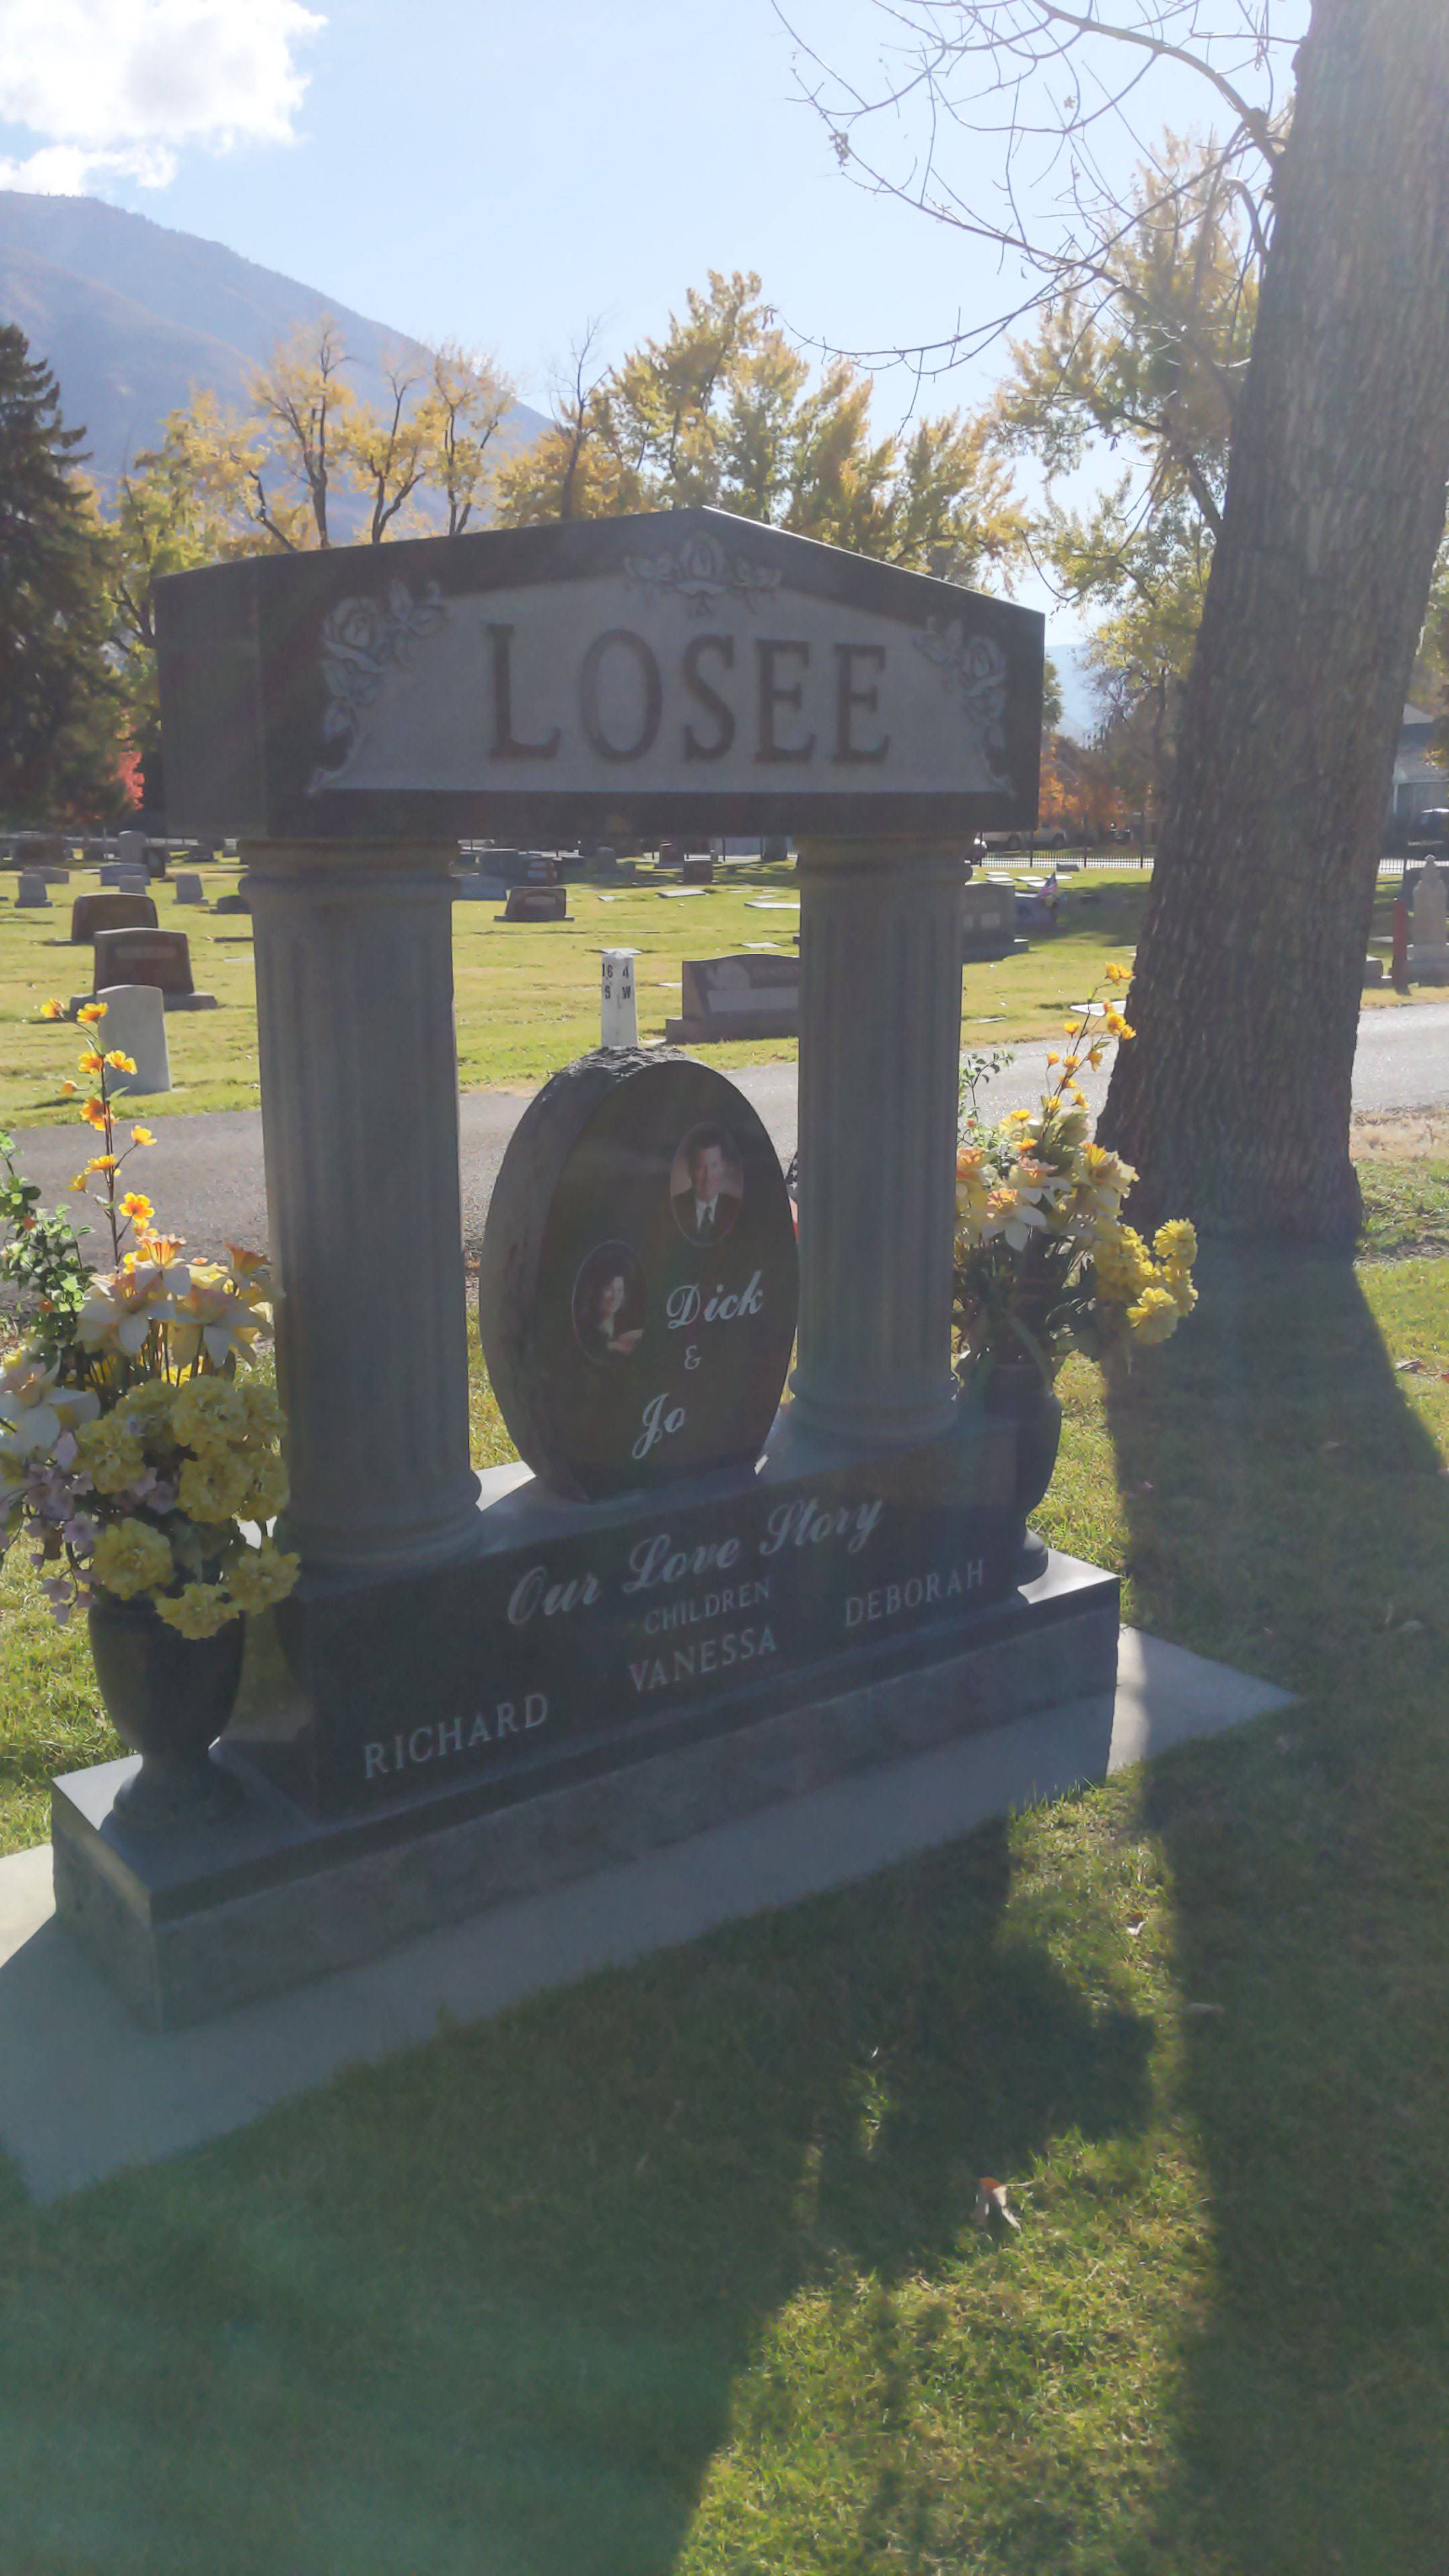statue: (78, 499, 1113, 1909)
